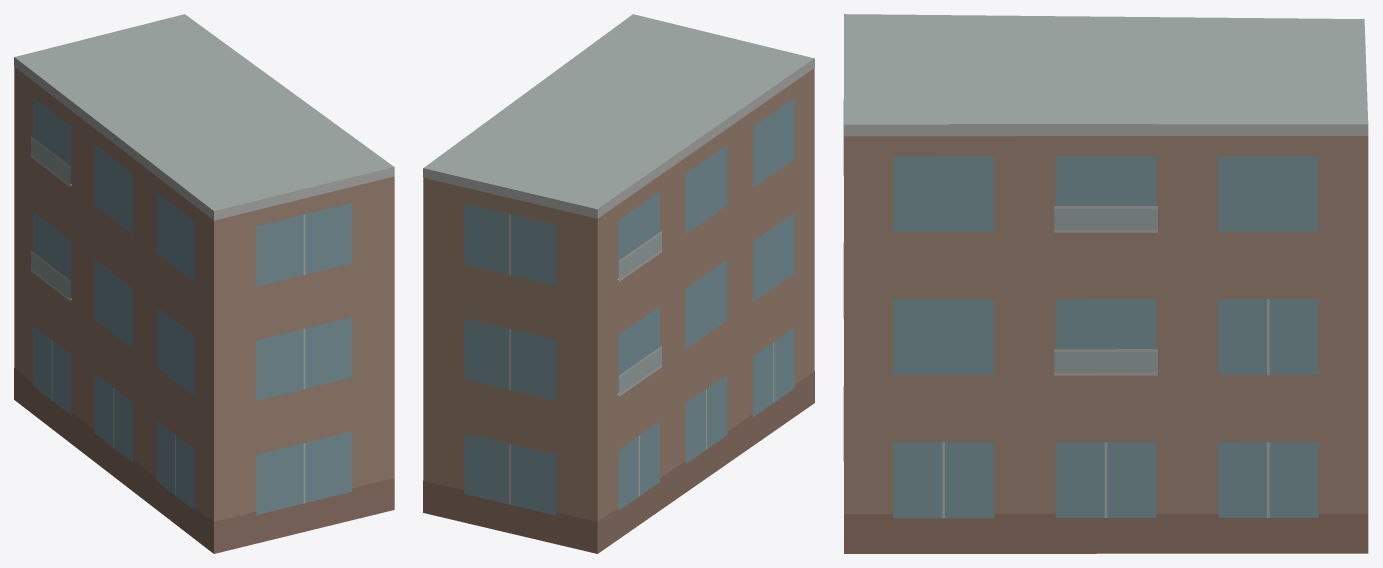
The model's file is survey-upis-33040855.glb.
3 views of the same model, side by side, from view 1: azimuth 30°, elevation 25°; view 2: azimuth 150°, elevation 25°; view 3: azimuth 270°, elevation 25° (orthographic). The views are drawn at different scales.
Visible parts, largest first — view 1: survey-upis-33040855.tmp; view 2: survey-upis-33040855.tmp; view 3: survey-upis-33040855.tmp.
Part boxes in pixels (x1,y1,x2,y2): survey-upis-33040855.tmp: (14, 14, 394, 553); survey-upis-33040855.tmp: (423, 14, 814, 553); survey-upis-33040855.tmp: (843, 14, 1368, 553).
Size of the model in its own units: 4.95 by 8.9 by 9.87.
